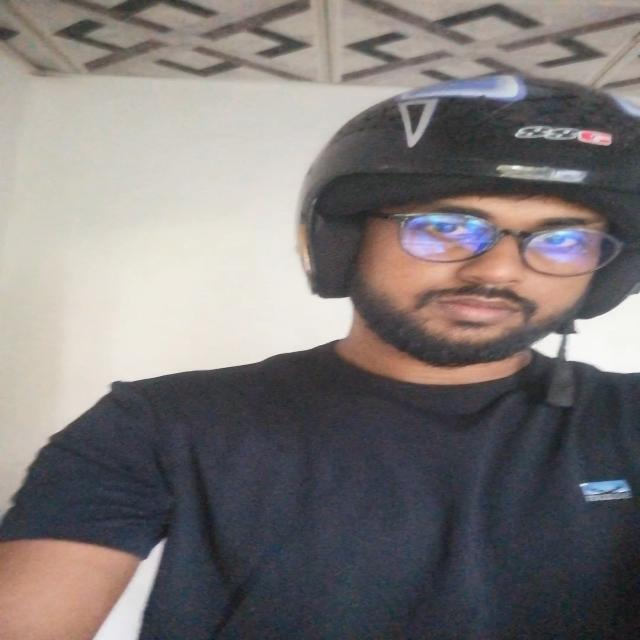Helmet_Wearer: (280, 59, 640, 430)
Person: (10, 81, 640, 640)
